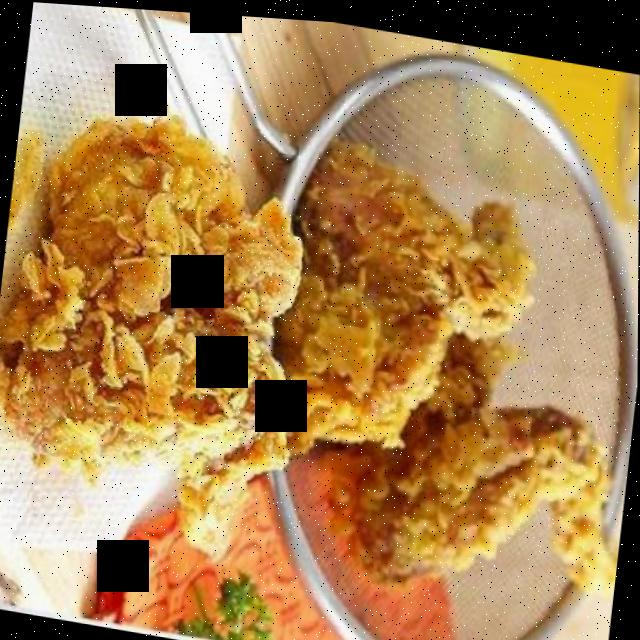Frango: (0, 81, 319, 569), (355, 264, 639, 618), (289, 132, 544, 470)
